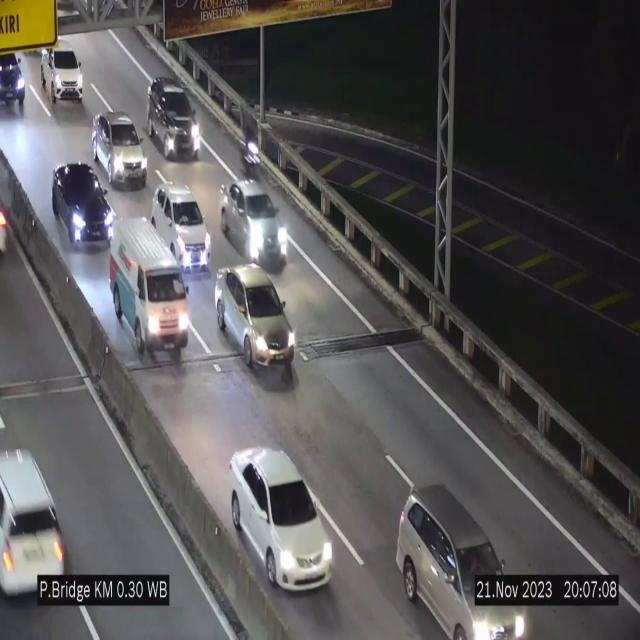Car: (230, 448, 332, 588), (109, 219, 191, 365), (214, 266, 294, 375), (220, 178, 286, 272), (54, 162, 120, 255), (152, 186, 210, 268), (148, 76, 202, 158), (92, 113, 146, 188), (40, 46, 90, 107)
Motorcycle: (243, 118, 261, 177)
